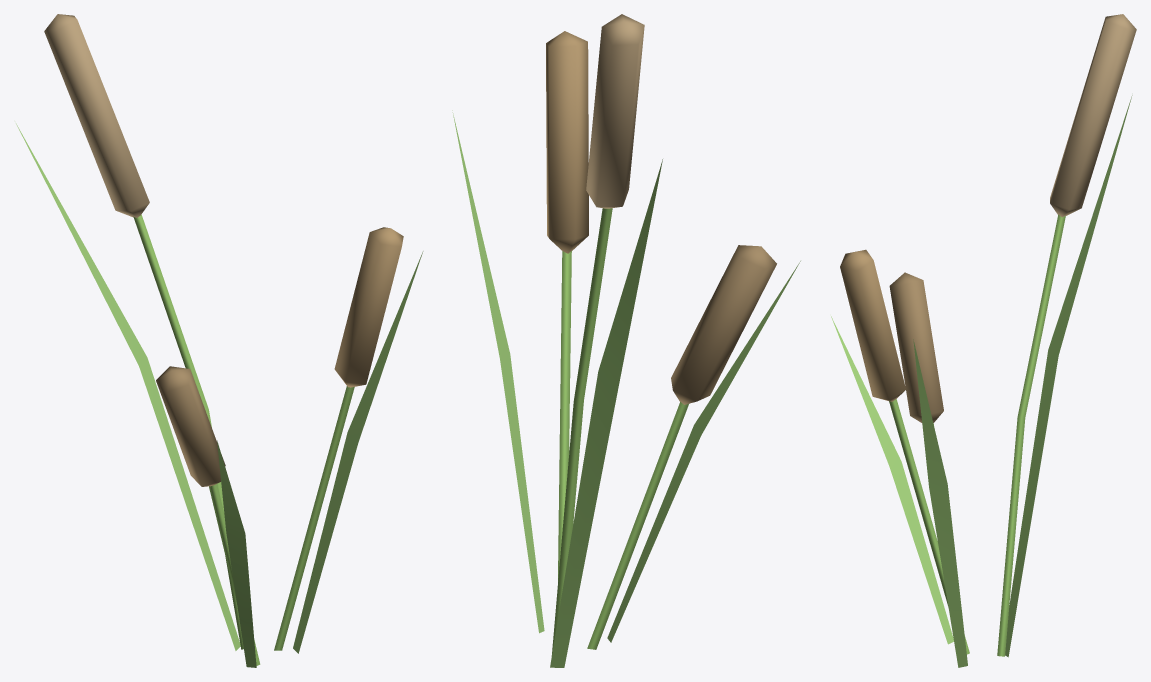
The model's file is reeds1.fbx.
3 views of the same model, side by side, from view 1: azimuth 30°, elevation 25°; view 2: azimuth 150°, elevation 25°; view 3: azimuth 270°, elevation 25° (orthographic). The views are drawn at different scales.
Visible parts, largest first — view 1: Reed_a_06; view 2: Reed_a_06; view 3: Reed_a_06.
Boxes of the visible parts, x1=… form: Reed_a_06: x1=16, y1=14, x2=423, y2=667; Reed_a_06: x1=452, y1=14, x2=800, y2=667; Reed_a_06: x1=831, y1=14, x2=1136, y2=667.
Size of the model in its own units: 50.77 by 53.29 by 107.
Materials: 1 (1 with a texture image).
